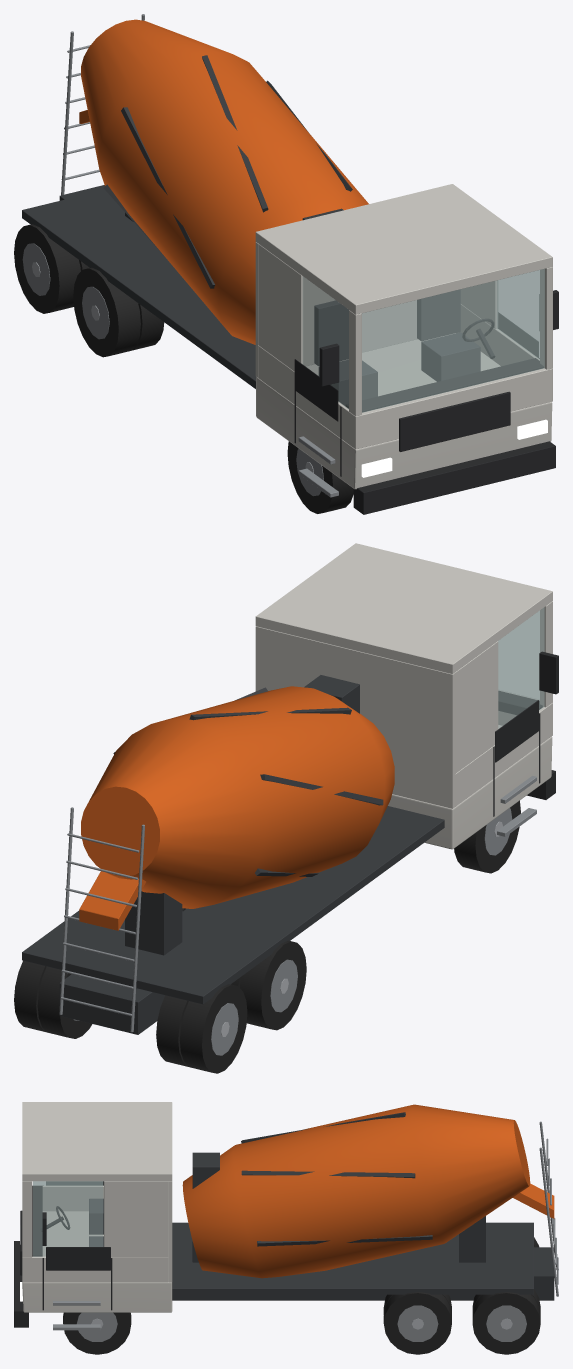
File: veh_mixer_truck_mover.glb
3 views of the same model, one above another, from view 1: azimuth 30°, elevation 25°; view 2: azimuth 150°, elevation 25°; view 3: azimuth 270°, elevation 25° (orthographic). The views are drawn at different scales.
Visible parts, largest first — view 1: Body, DrumMesh, Wheels, CabDoorLMesh, CabDoorRMesh; view 2: Body, DrumMesh, Wheels, CabDoorLMesh; view 3: Body, DrumMesh, Wheels, CabDoorRMesh.
Part boxes in pixels (x1,y1,x2,y2): Body: (22,14,558,514); DrumMesh: (81,19,368,344); Wheels: (14,224,353,513); CabDoorLMesh: (294,359,338,421); CabDoorRMesh: (498,313,538,357); Body: (22,543,558,1034); DrumMesh: (81,686,394,911); Wheels: (14,800,520,1073); CabDoorLMesh: (495,700,538,762); Body: (14,1102,558,1330); DrumMesh: (182,1104,530,1278); Wheels: (63,1237,540,1354); CabDoorRMesh: (46,1247,110,1270).
Size of the model in its own units: 3 by 3.4 by 7.99.
